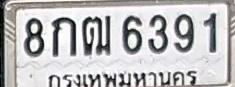1: (203, 12, 216, 52)
3: (148, 13, 168, 54)
6: (122, 14, 142, 54)
8: (23, 17, 44, 57)
9: (174, 13, 194, 52)
A01: (51, 16, 76, 57)
A18: (81, 15, 111, 56)
BKK: (43, 69, 200, 87)
